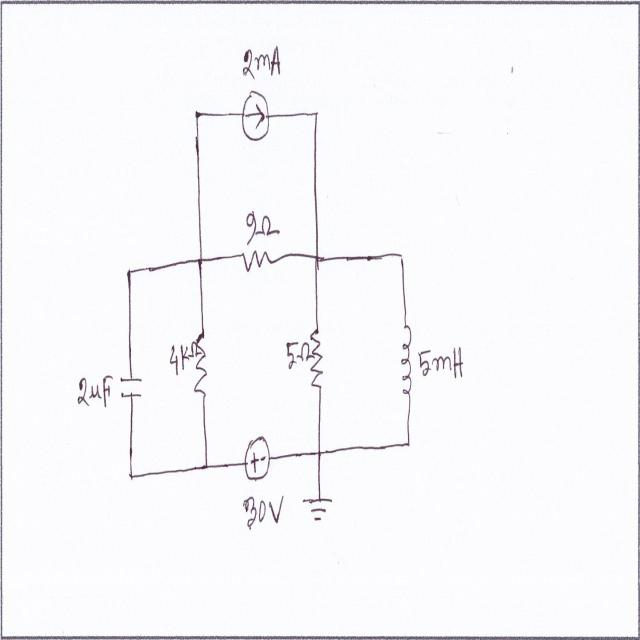capacitor: (118, 366, 144, 404)
current_source: (240, 87, 271, 144)
ground: (301, 494, 335, 524)
inductor: (401, 323, 415, 403)
resistor: (309, 328, 328, 398), (194, 324, 210, 406), (242, 248, 275, 278)
voltage_source: (244, 434, 273, 485)
